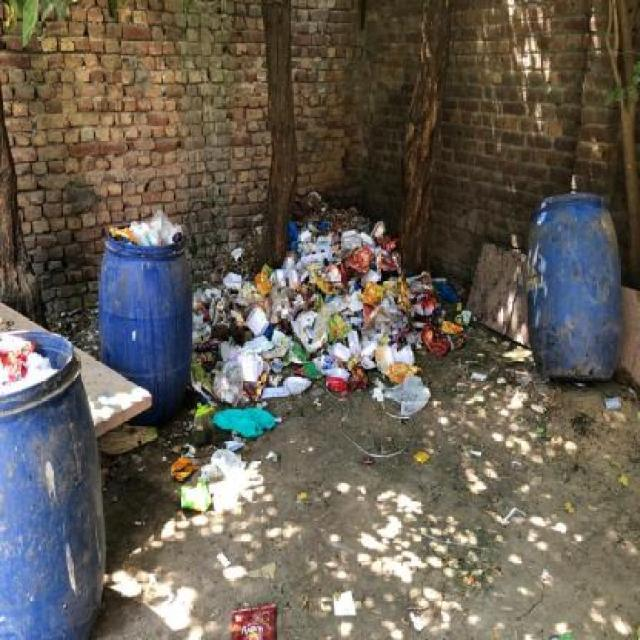garbage: (0, 197, 281, 638), (285, 174, 492, 476), (488, 166, 640, 478)
